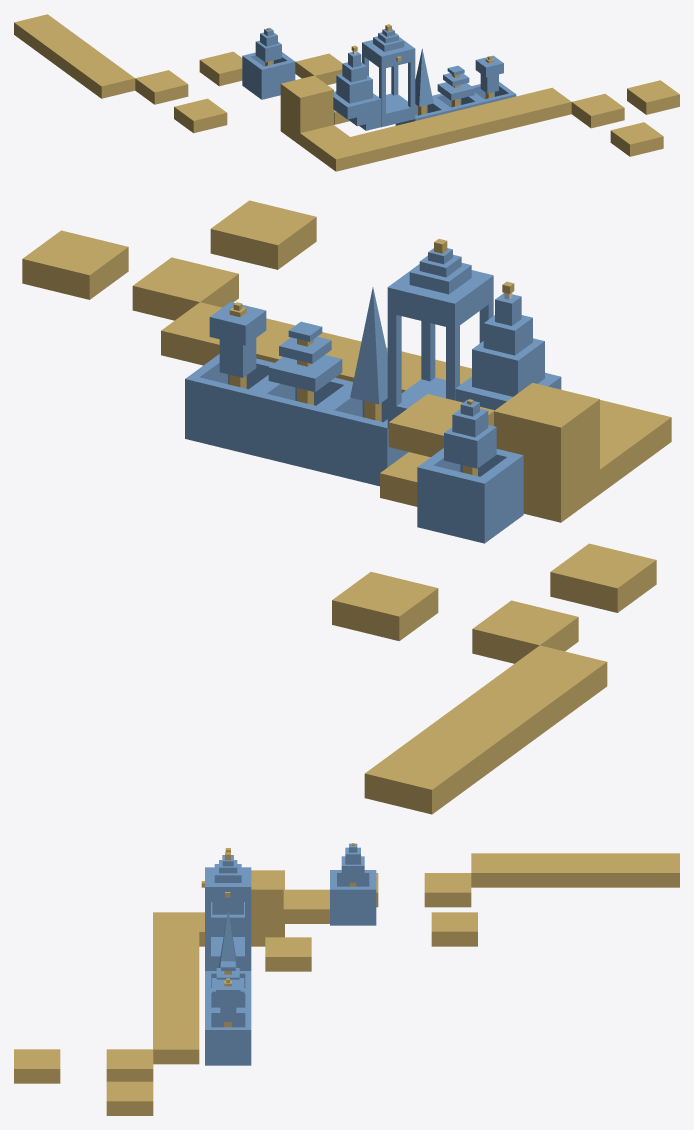
The model's file is CasualGameModel.fbx.
The picture shows the model from 3 angles, top to bottom: view 1: azimuth 30°, elevation 25°; view 2: azimuth 150°, elevation 25°; view 3: azimuth 270°, elevation 25°; orthographic projection. The views are drawn at different scales.
Parts seen in each view (by area): view 1: Cube.010, Cube.011, Cube.014, Cube.029, Cube.006, Cube.003, Cube.024, Cube.026, Cube.031, Cone, Cube.012; view 2: Cube.010, Cube.006, Cube.011, Cube.029, Cube.014, Cube.024, Cube.003, Cube.026, Cube.031, Cone, Cube.012, Cube.008; view 3: Cube.010, Cube.006, Cube.011, Cube.029, Cube.008, Cube.003, Cube.014, Cube.026, Cube.031, Cube.012, Cube.024, Cone.
Part boxes in pixels (left/top/right/bottom): Cube.010: left=14, top=14, right=679, bottom=171; Cube.011: left=362, top=37, right=415, bottom=127; Cube.014: left=333, top=51, right=381, bottom=130; Cube.029: left=242, top=52, right=295, bottom=99; Cube.006: left=395, top=82, right=516, bottom=125; Cube.003: left=295, top=53, right=342, bottom=84; Cube.024: left=437, top=65, right=474, bottom=100; Cube.026: left=475, top=55, right=503, bottom=93; Cube.031: left=255, top=28, right=281, bottom=62; Cone: left=415, top=48, right=433, bottom=106; Cube.012: left=373, top=29, right=404, bottom=51; Cube.010: left=22, top=200, right=671, bottom=814; Cube.006: left=185, top=354, right=408, bottom=486; Cube.011: left=387, top=264, right=493, bottom=428; Cube.029: left=417, top=448, right=523, bottom=543; Cube.014: left=455, top=293, right=561, bottom=410; Cube.024: left=268, top=321, right=342, bottom=391; Cube.003: left=388, top=394, right=494, bottom=457; Cube.026: left=209, top=302, right=266, bottom=377; Cube.031: left=444, top=399, right=496, bottom=468; Cone: left=350, top=287, right=387, bottom=404; Cube.012: left=409, top=248, right=471, bottom=294; Cube.008: left=380, top=452, right=430, bottom=506; Cube.010: left=14, top=853, right=679, bottom=1115; Cube.006: left=205, top=971, right=251, bottom=1065; Cube.011: left=205, top=867, right=251, bottom=970; Cube.029: left=330, top=870, right=376, bottom=925; Cube.008: left=265, top=937, right=311, bottom=971; Cube.003: left=283, top=889, right=329, bottom=923; Cube.014: left=211, top=855, right=244, bottom=936; Cube.026: left=216, top=979, right=240, bottom=1021; Cube.031: left=341, top=843, right=364, bottom=882; Cube.012: left=214, top=856, right=241, bottom=882; Cube.024: left=212, top=961, right=244, bottom=999; Cone: left=218, top=910, right=237, bottom=967.
Size of the model in its own units: 2528 by 682 by 2871.
